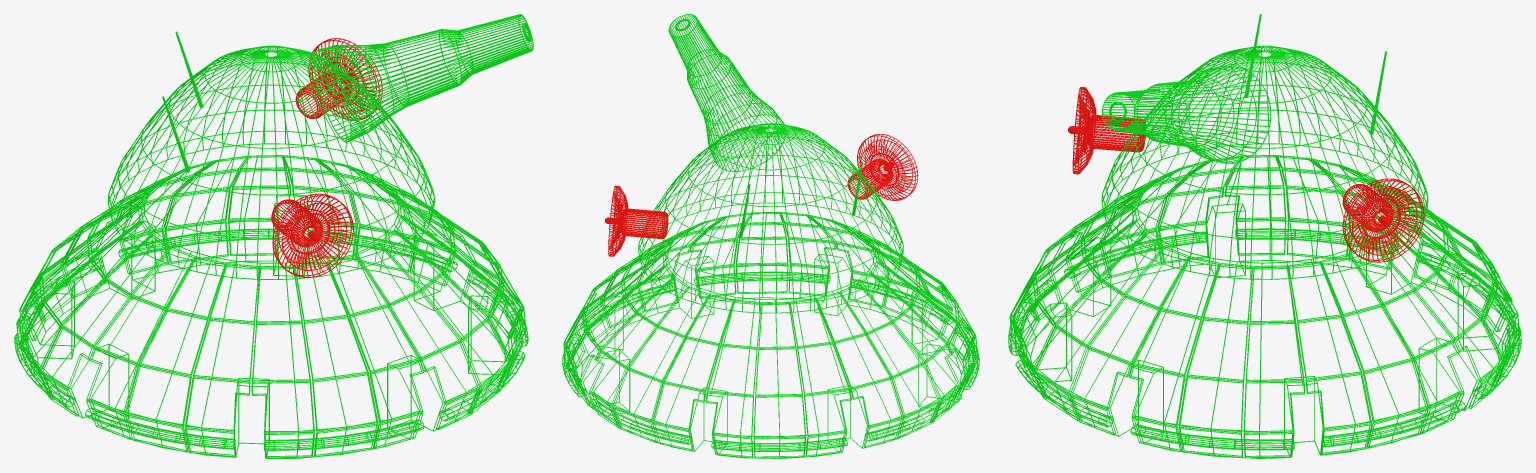
The model's file is anti-missile-pod-highlight-twin-tracking-dishes.glb.
The picture shows the model from 3 angles, left to right: view 1: azimuth 30°, elevation 25°; view 2: azimuth 150°, elevation 25°; view 3: azimuth 270°, elevation 25°; orthographic projection. The views are drawn at different scales.
Visible parts, largest first — view 1: armoured-plasma-base technical wire, chassis technical wire, alloy-plasma-barrel technical wire, twin-tracking-dishes technical wire; view 2: armoured-plasma-base technical wire, chassis technical wire, alloy-plasma-barrel technical wire, twin-tracking-dishes technical wire; view 3: armoured-plasma-base technical wire, chassis technical wire, twin-tracking-dishes technical wire, alloy-plasma-barrel technical wire.
Boxes of the visible parts, bbox=[...] form: armoured-plasma-base technical wire: bbox=[14, 155, 528, 458]; chassis technical wire: bbox=[107, 31, 434, 279]; alloy-plasma-barrel technical wire: bbox=[313, 14, 533, 142]; twin-tracking-dishes technical wire: bbox=[271, 38, 382, 277]; armoured-plasma-base technical wire: bbox=[562, 212, 979, 458]; chassis technical wire: bbox=[638, 123, 903, 313]; alloy-plasma-barrel technical wire: bbox=[668, 14, 785, 171]; twin-tracking-dishes technical wire: bbox=[605, 134, 918, 256]; armoured-plasma-base technical wire: bbox=[1008, 155, 1521, 458]; chassis technical wire: bbox=[1101, 14, 1428, 279]; twin-tracking-dishes technical wire: bbox=[1068, 87, 1424, 262]; alloy-plasma-barrel technical wire: bbox=[1102, 66, 1271, 163].
Bounding box in the file's own units: 2.02 × 1.53 × 2.02.
